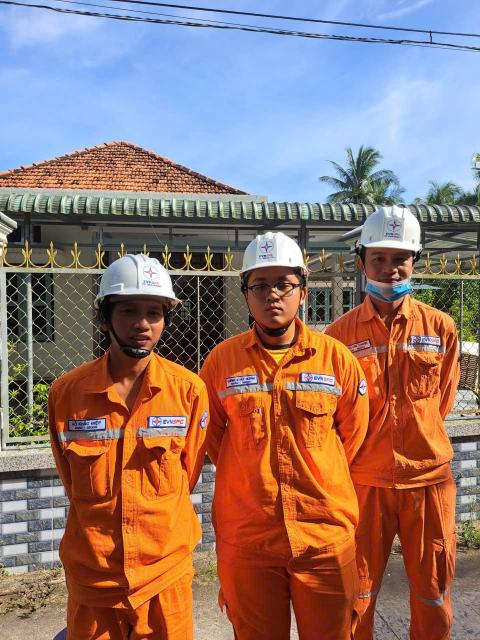helmet: (75, 258, 194, 308), (356, 191, 441, 260), (220, 227, 333, 276)
